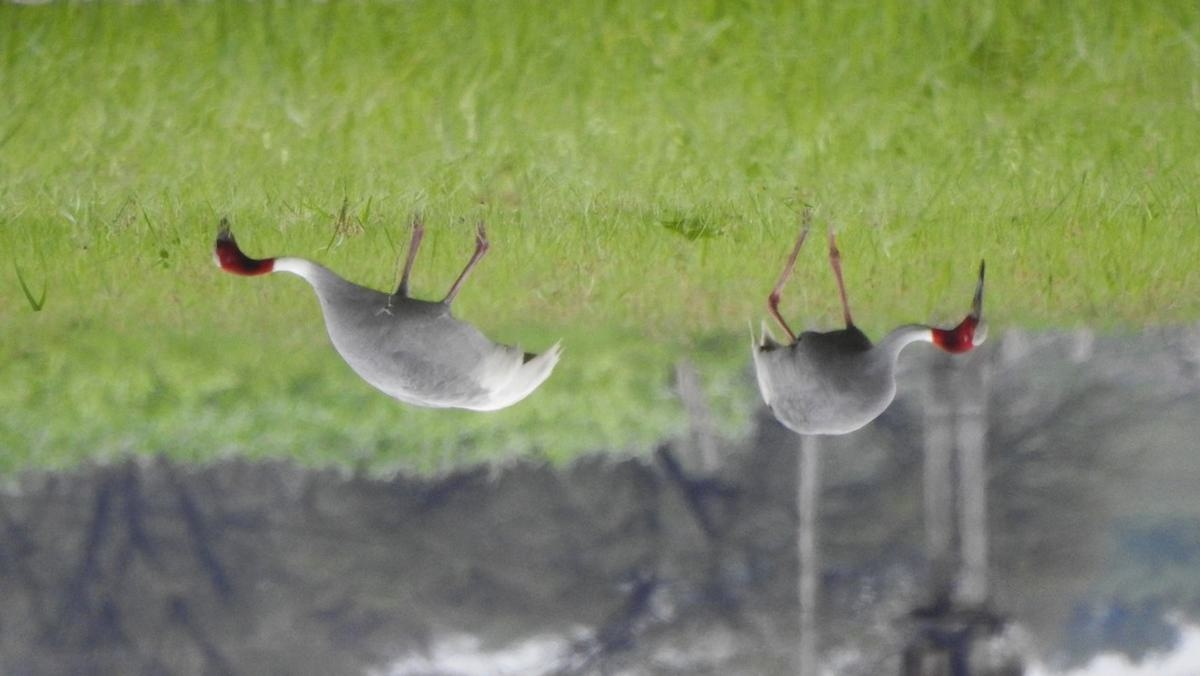crane: (194, 184, 577, 438), (724, 182, 1019, 472)
